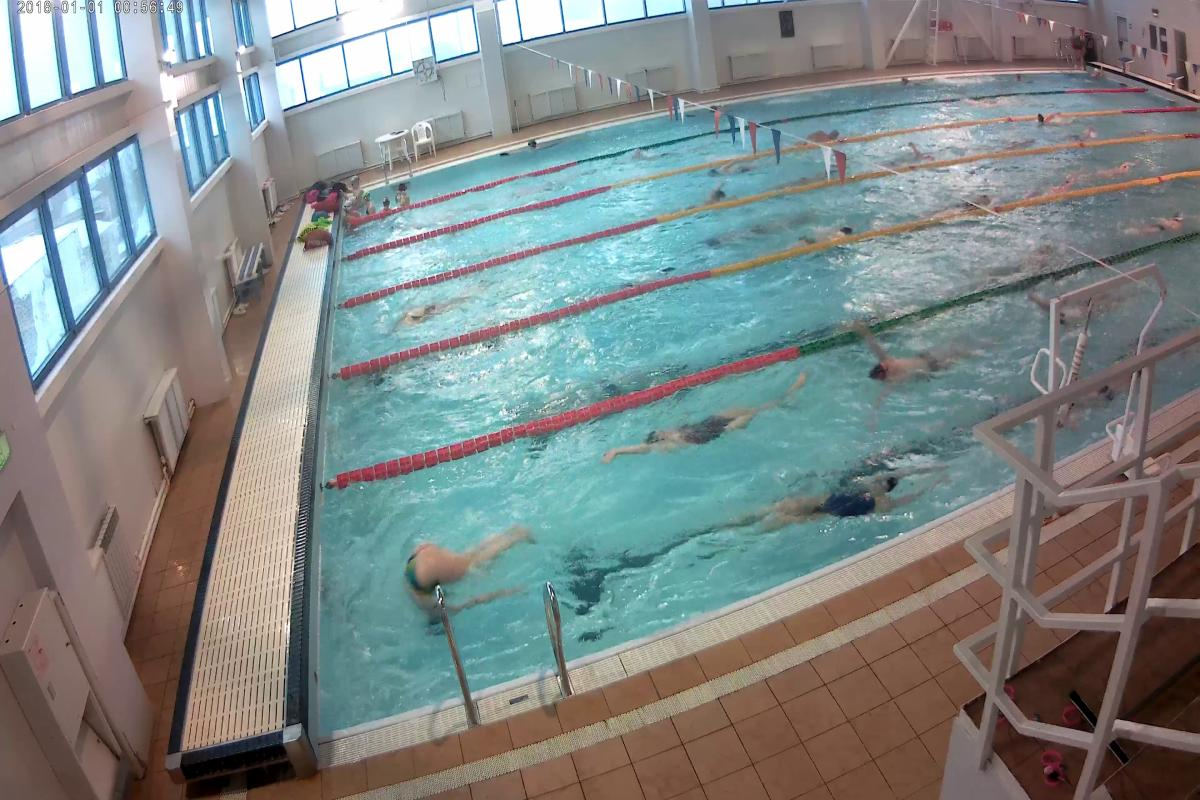swimmer: (598, 368, 819, 471), (387, 512, 548, 632), (765, 466, 908, 538), (857, 334, 965, 412), (387, 296, 458, 330), (1131, 200, 1187, 241), (802, 215, 856, 246), (943, 186, 999, 214), (798, 123, 842, 148), (708, 160, 752, 180), (695, 185, 733, 205), (1098, 157, 1138, 176)
